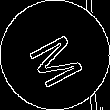M_NE: (22, 23, 88, 87)
